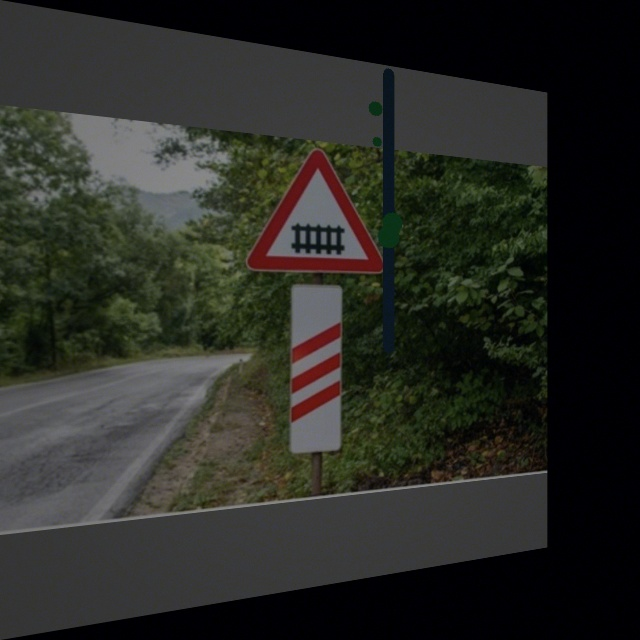Guarded_Level_Crossing: (247, 142, 386, 273)
